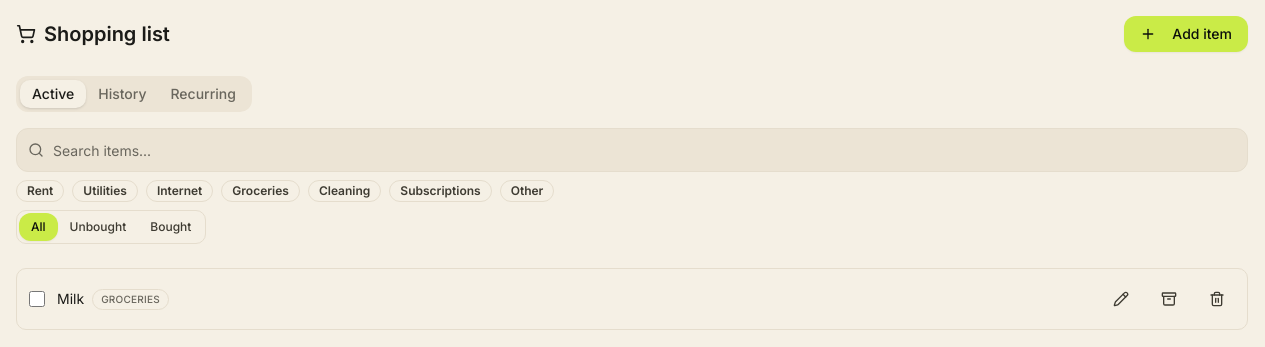
it: <ShoppingListPage /> flows › K.5 — Recurring tab shows recurring shopping rules
The image size is (1265, 347).
expect the text "Milk" is shown: met, box 57,289 -> 84,309
Click the tab "Recurring" at point(203, 94), box 158,80 -> 248,108
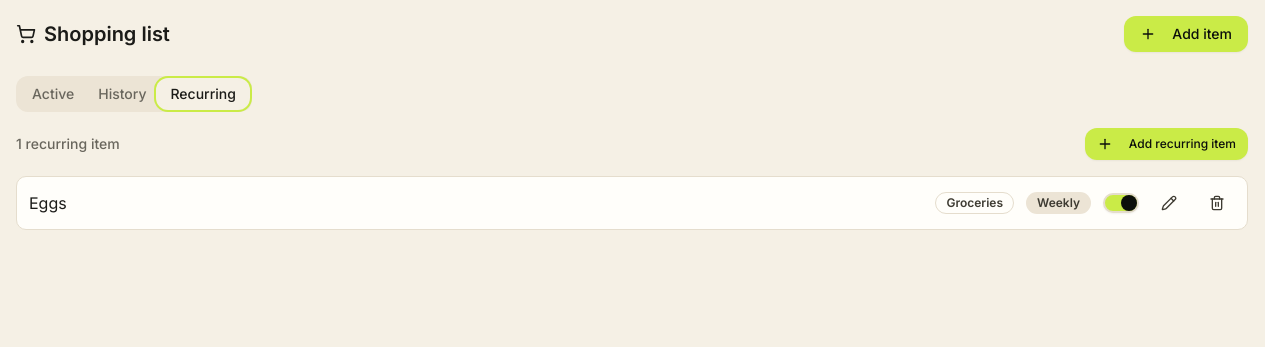
expect the text "Eggs" is shown: met, box 29,193 -> 67,213
